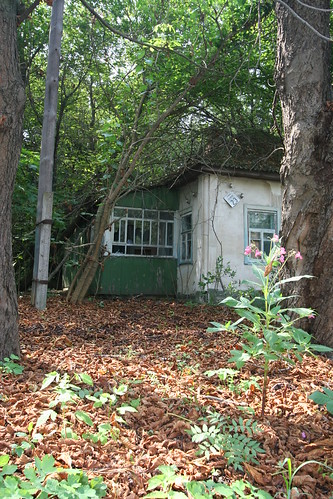building: (90, 157, 286, 294)
tree: (58, 16, 264, 302), (259, 1, 333, 324), (1, 1, 35, 340)
vegetation: (5, 301, 333, 496)
